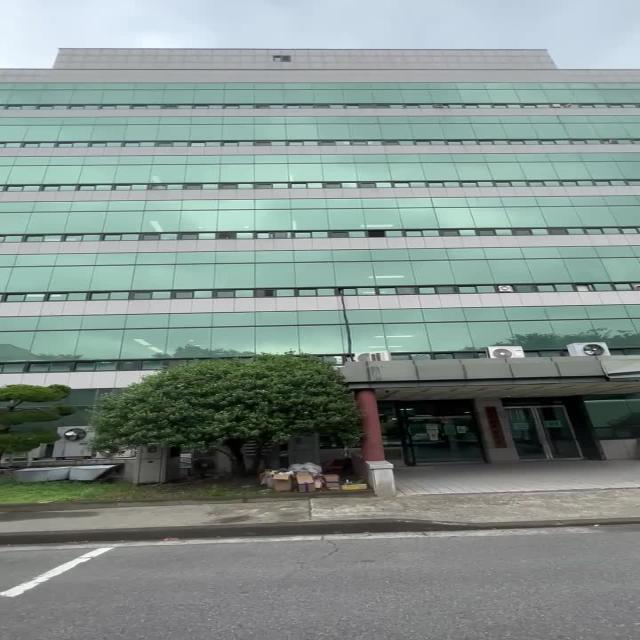building: (52, 47, 622, 347)
